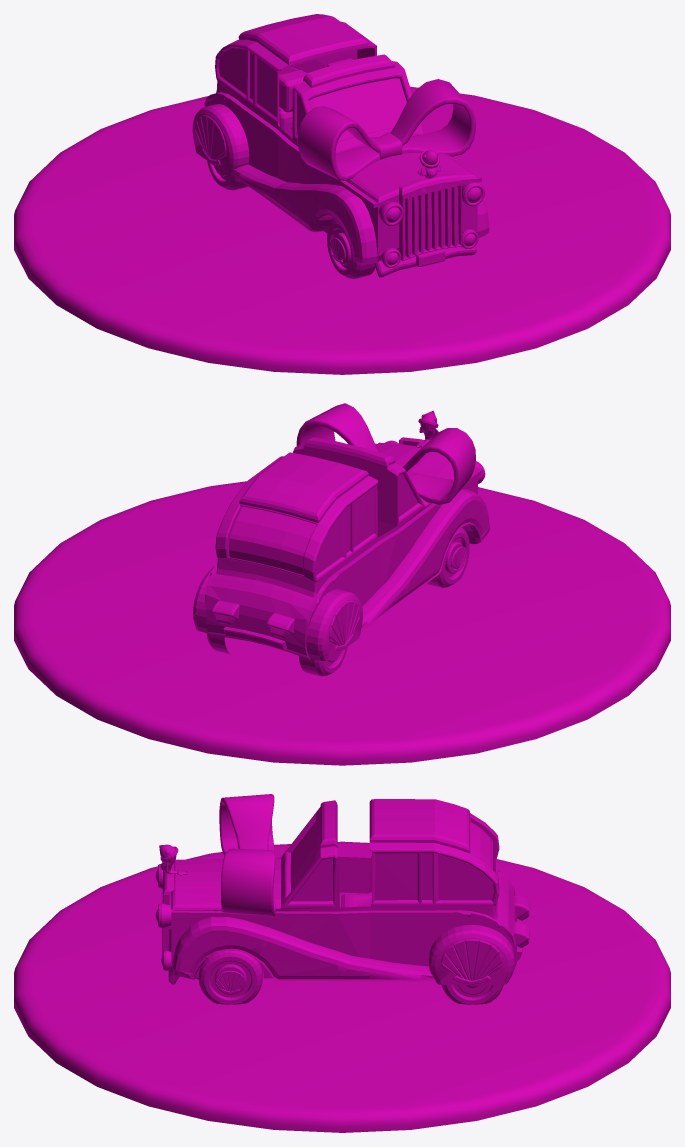
The model's file is SM_Car.fbx.
The picture shows the model from 3 angles, top to bottom: view 1: azimuth 30°, elevation 25°; view 2: azimuth 150°, elevation 25°; view 3: azimuth 270°, elevation 25°; orthographic projection.
Visible parts, largest first — view 1: SM_Car; view 2: SM_Car; view 3: SM_Car.
Boxes of the visible parts, <box> form: SM_Car: <box>14,14,670,374</box>; SM_Car: <box>14,403,670,765</box>; SM_Car: <box>14,794,670,1132</box>.
Size of the model in its own units: 1068 by 317 by 1062.
